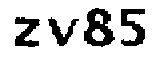5: (118, 4, 151, 52)
8: (82, 5, 118, 51)
v: (44, 13, 78, 46)
z: (8, 13, 43, 50)
